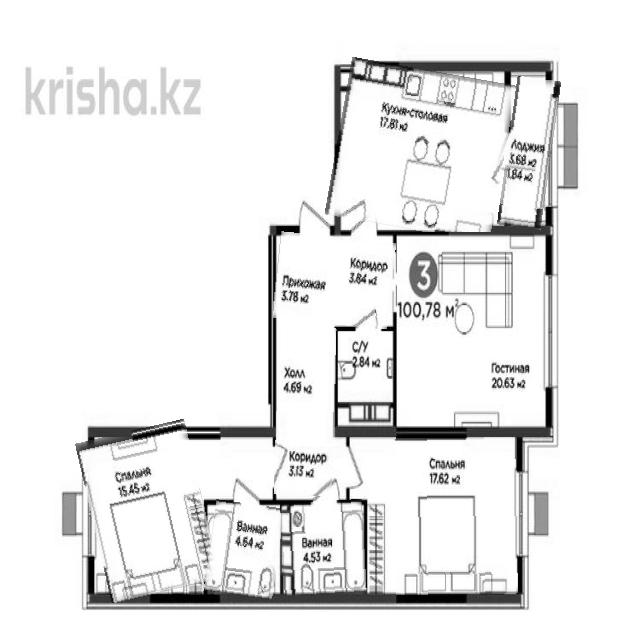balcony: (502, 77, 556, 229)
bathroom: (281, 500, 366, 600), (206, 501, 281, 600), (336, 332, 396, 432)
hallway: (274, 234, 394, 327), (276, 328, 336, 496)
kitchen: (331, 64, 510, 236)
living_room: (396, 232, 544, 430), (84, 424, 213, 598), (393, 438, 518, 594)
